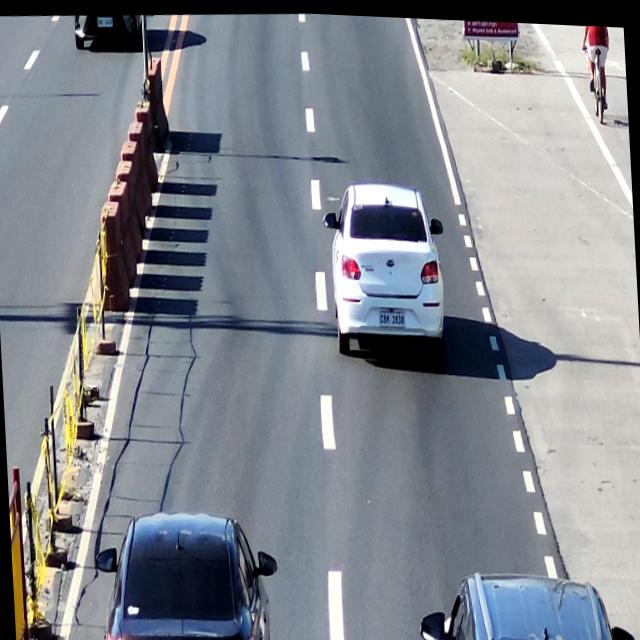Car: (324, 169, 456, 367), (91, 504, 282, 640), (418, 557, 636, 640), (68, 11, 150, 54)
License-Plate: (376, 305, 408, 329), (92, 14, 116, 30)
